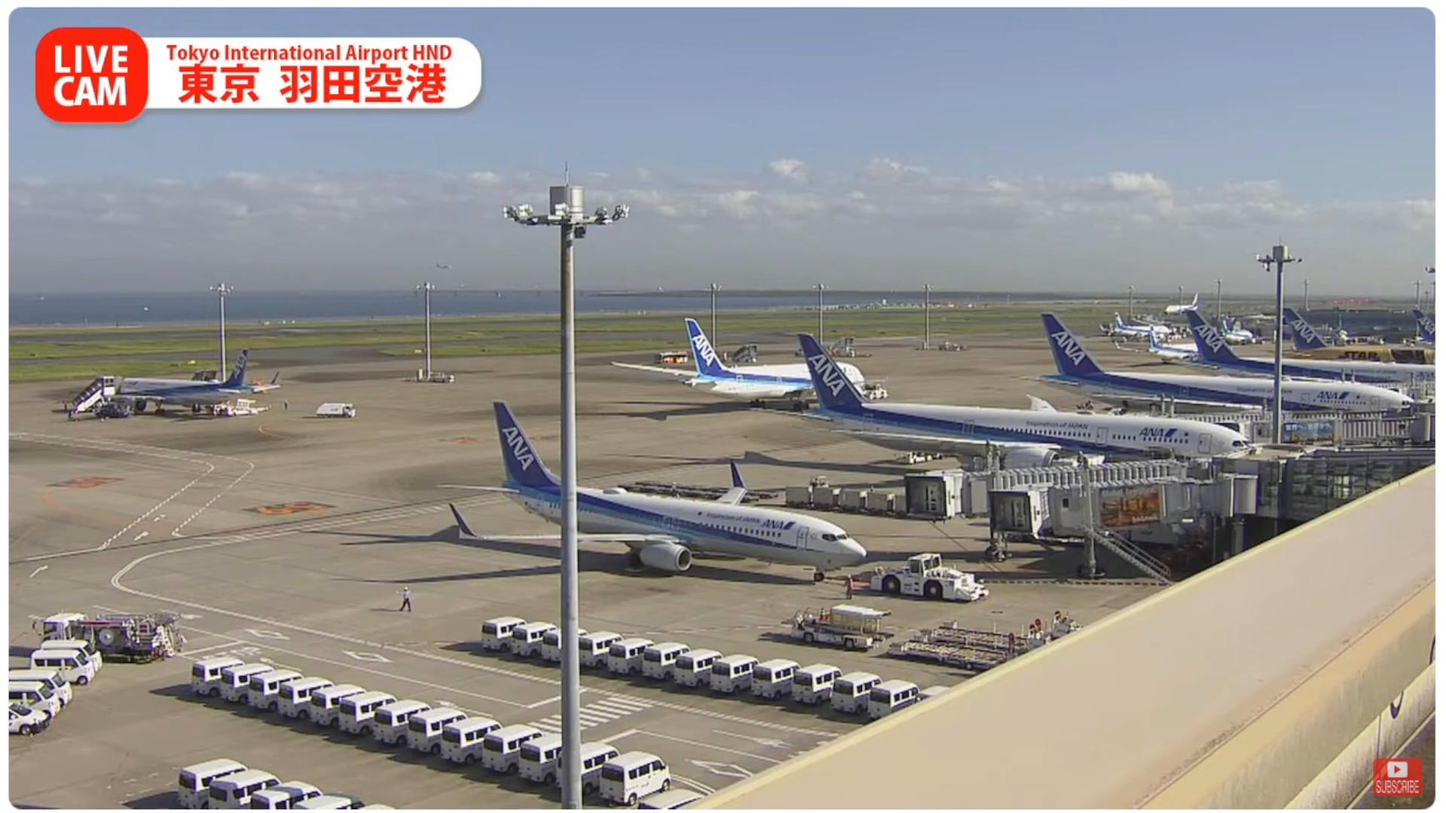APS: (871, 557, 989, 603)
Aerobridge: (904, 443, 1220, 528), (991, 451, 1256, 537)
Airplane: (438, 402, 868, 589)
JCPL: (918, 616, 1075, 656), (890, 639, 1018, 670)
Skyloader: (789, 603, 894, 653)
Window: (1290, 445, 1435, 519)
